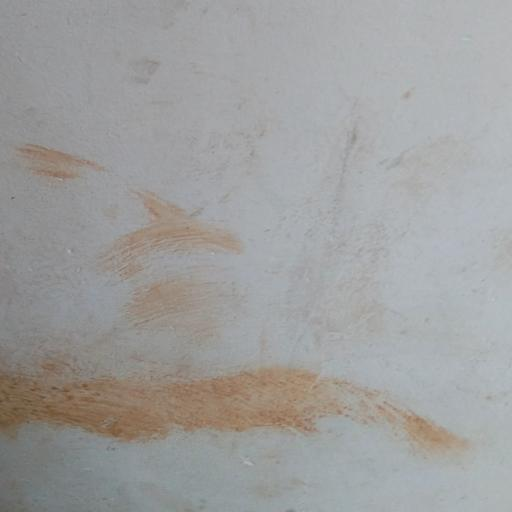stain: (0, 319, 489, 476), (5, 127, 246, 361)
